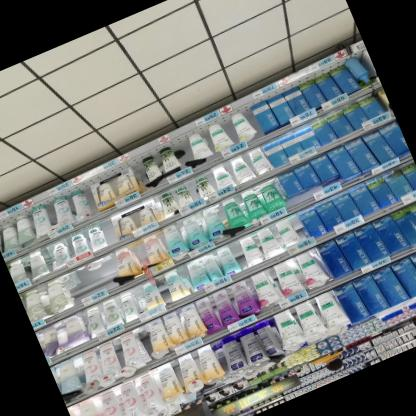empty_space: (77, 261, 123, 299), (224, 239, 252, 273), (172, 137, 199, 171), (216, 116, 243, 150), (240, 106, 265, 139), (96, 216, 121, 245)
